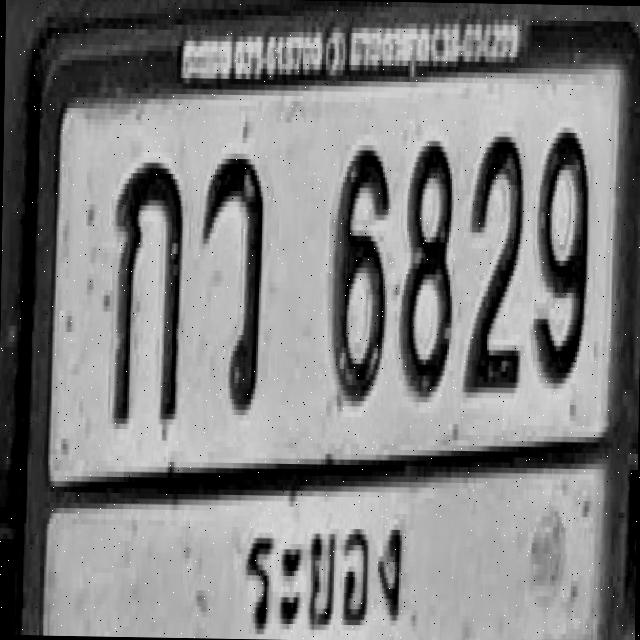10GorGai: (112, 156, 184, 424)
2: (463, 130, 522, 388)
46WorWaen: (199, 153, 264, 410)
6: (330, 144, 390, 401)
8: (398, 138, 454, 394)
9: (532, 126, 588, 383)
Rayong: (237, 487, 410, 639)
